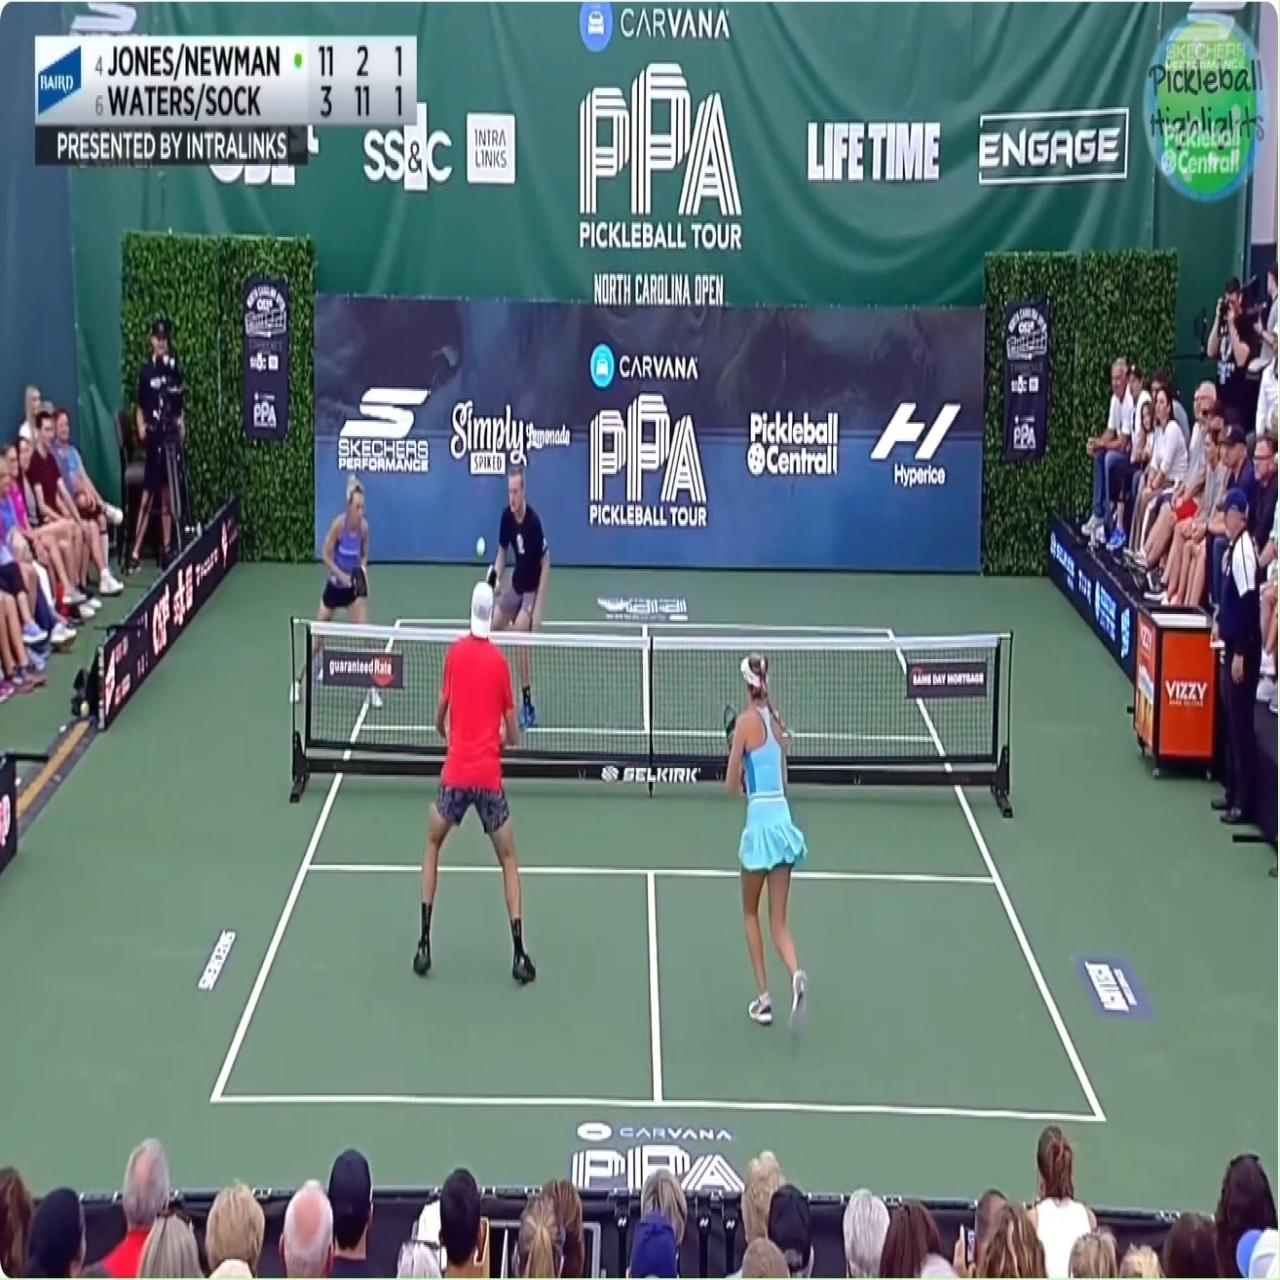pickleball: (476, 536, 485, 556)
